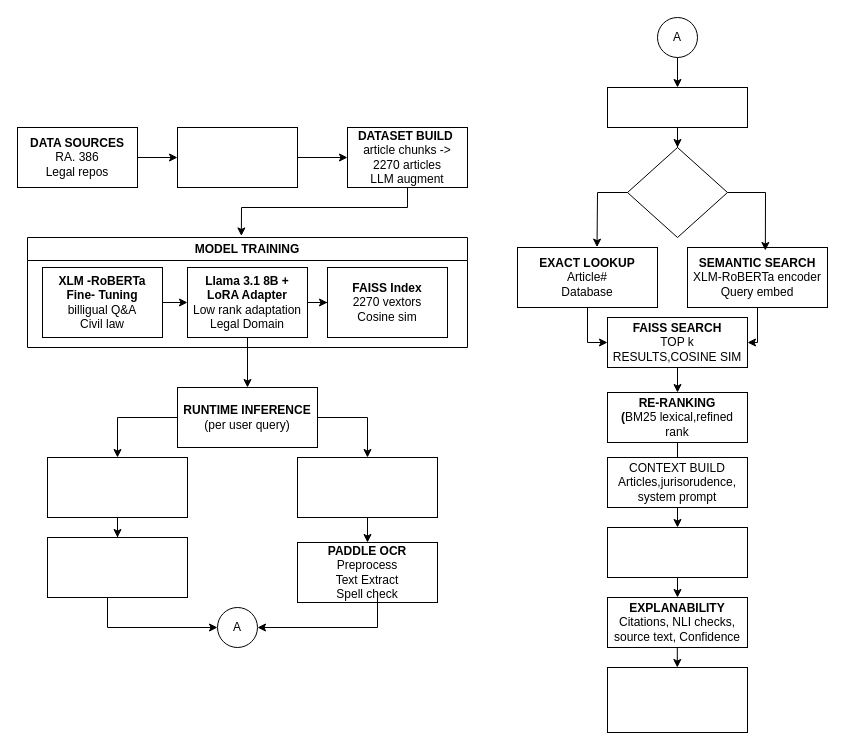
This 845x750 diagram has some shape labels left out. Each missing label, with the centre of its shape:
exact lookup?: (677,192)
FINAL OUTPUT Legal Answer, Reasoning, Sources, reliability: (677,699)
GENERATION Llama 3.1 8B + LoRA adapter, Cot reasoning: (677,552)
IMAGE INPUT (scanned docs, OCR): (367,487)
INPUT PROC language detect intent classification entity extraction: (117,567)
PREPROCESSING text cleaning unicode norm structure tag: (237,157)
QUERY INPUT (user query text, fil/eng: (117,487)
RAG PIPELINE: (677,107)
